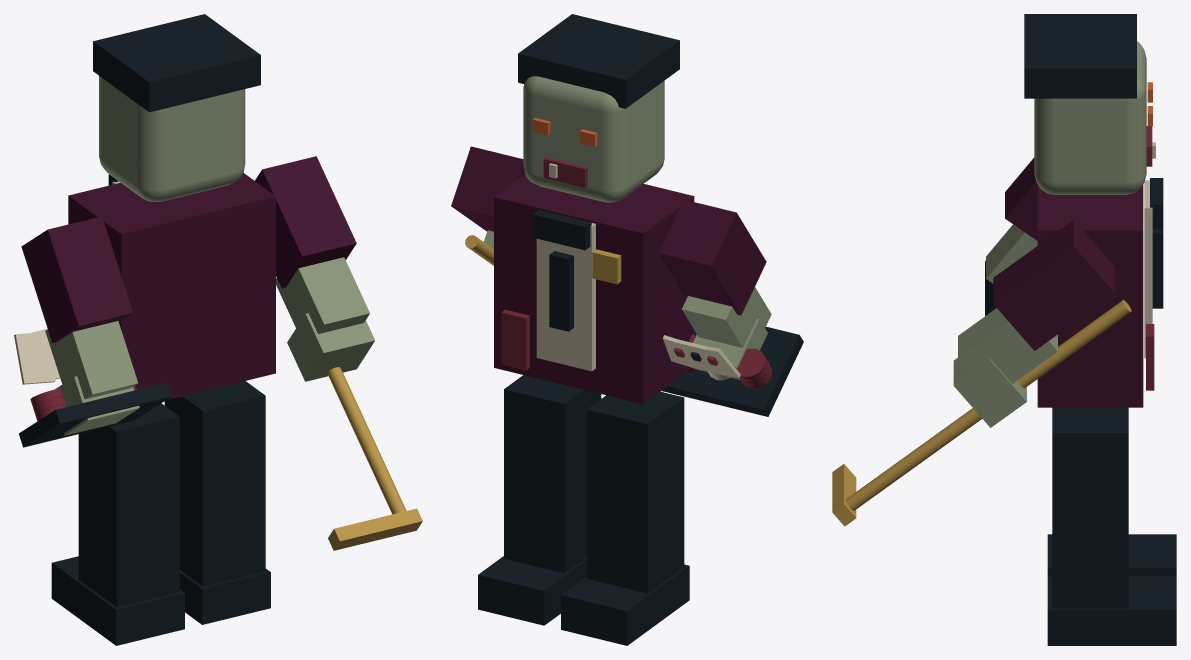
Rendered from enemy-dealer.glb.
The picture shows the model from 3 angles, left to right: view 1: azimuth 30°, elevation 25°; view 2: azimuth 150°, elevation 25°; view 3: azimuth 270°, elevation 25°; orthographic projection. The views are drawn at different scales.
Parts seen in each view (by area): view 1: Body, Head, LegL, ArmL, LegR, ArmR; view 2: Body, LegL, Head, LegR, ArmL, ArmR; view 3: LegR, ArmR, Head, Body, ArmL, LegL.
Boxes of the visible parts, x1,y1,x2,y2 form: Body: [68, 173, 275, 399]; Head: [93, 14, 260, 201]; LegL: [51, 403, 184, 645]; ArmL: [14, 216, 171, 447]; LegR: [164, 381, 270, 624]; ArmR: [255, 156, 422, 550]; Body: [494, 174, 694, 403]; LegL: [561, 391, 689, 645]; Head: [518, 14, 679, 202]; LegR: [478, 375, 601, 625]; ArmL: [659, 199, 803, 416]; ArmR: [451, 146, 524, 265]; LegR: [1047, 407, 1176, 645]; ArmR: [832, 220, 1131, 526]; Head: [1024, 14, 1155, 194]; Body: [1037, 178, 1163, 407]; ArmL: [985, 157, 1037, 315]; LegL: [1047, 534, 1176, 576].
Bounding box in the file's own units: 1.05 × 1.89 × 1.04.
